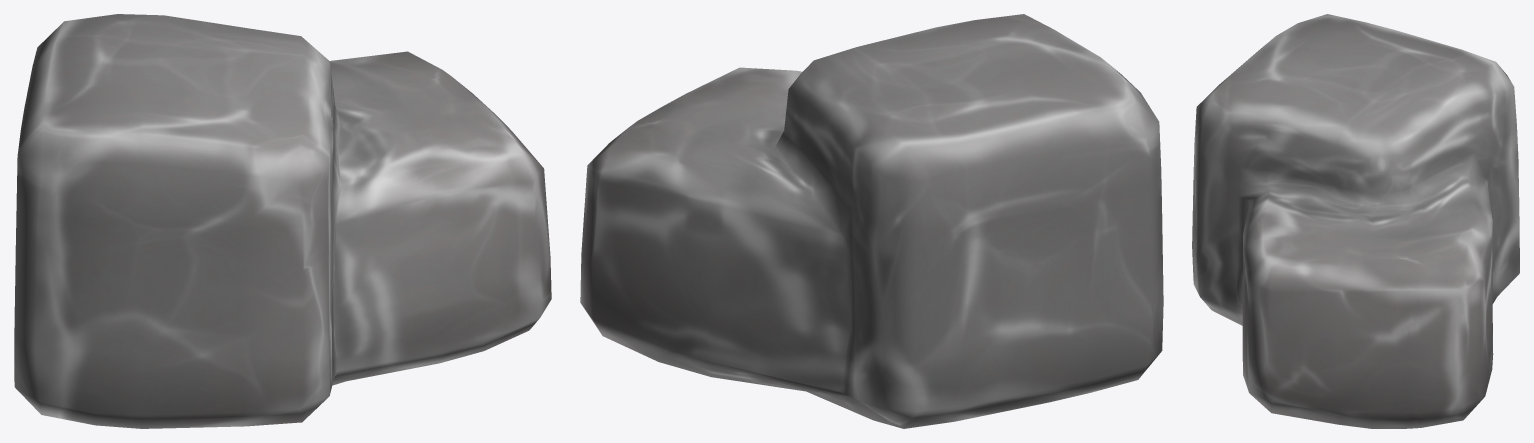
The model's file is roca7.fbx.
3 renders of one model, left to right at view 1: azimuth 30°, elevation 25°; view 2: azimuth 150°, elevation 25°; view 3: azimuth 270°, elevation 25°, orthographic. The views are drawn at different scales.
Visible parts, largest first — view 1: roca7; view 2: roca7; view 3: roca7.
Boxes of the visible parts, box(x1,y1,x2,y2) form: roca7: box(14, 14, 551, 428); roca7: box(580, 14, 1163, 428); roca7: box(1192, 14, 1519, 428).
Size of the model in its own units: 14.99 by 8.93 by 10.51.
